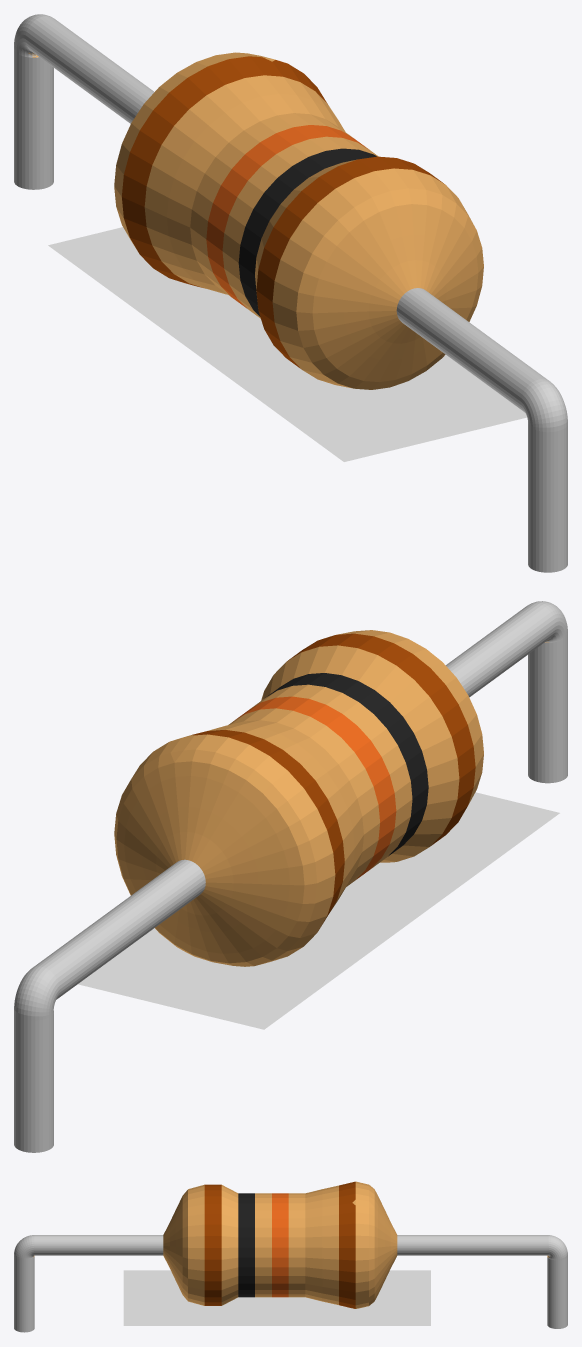
Rendered from R3_tan_5.gltf.
The picture shows the model from 3 angles, top to bottom: view 1: azimuth 30°, elevation 25°; view 2: azimuth 150°, elevation 25°; view 3: azimuth 270°, elevation 25°; orthographic projection. The views are drawn at different scales.
Visible parts, largest first — view 1: R3_tan_5, R3_tan_5_plane; view 2: R3_tan_5, R3_tan_5_plane; view 3: R3_tan_5, R3_tan_5_plane.
Boxes of the visible parts, x1,y1,x2,y2 form: R3_tan_5: [14, 14, 567, 572]; R3_tan_5_plane: [48, 227, 527, 461]; R3_tan_5: [14, 601, 567, 1152]; R3_tan_5_plane: [78, 792, 559, 1029]; R3_tan_5: [14, 1181, 567, 1332]; R3_tan_5_plane: [123, 1270, 430, 1325].
Bounding box in the file's own units: 0.0161 × 0.0189 × 0.0676.
